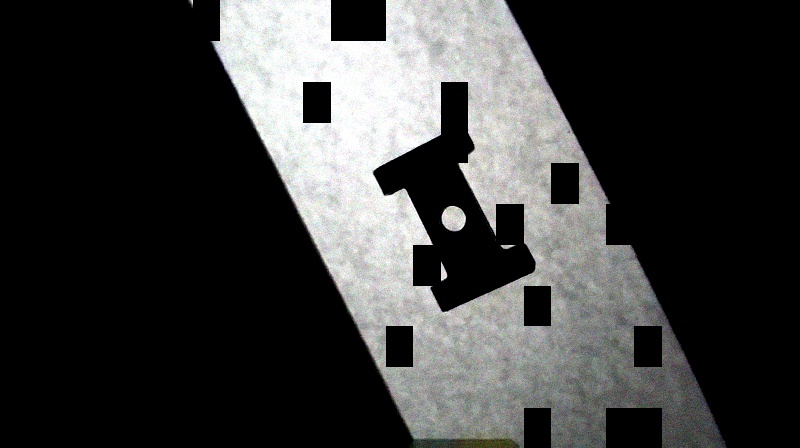O002: (368, 121, 541, 312)
